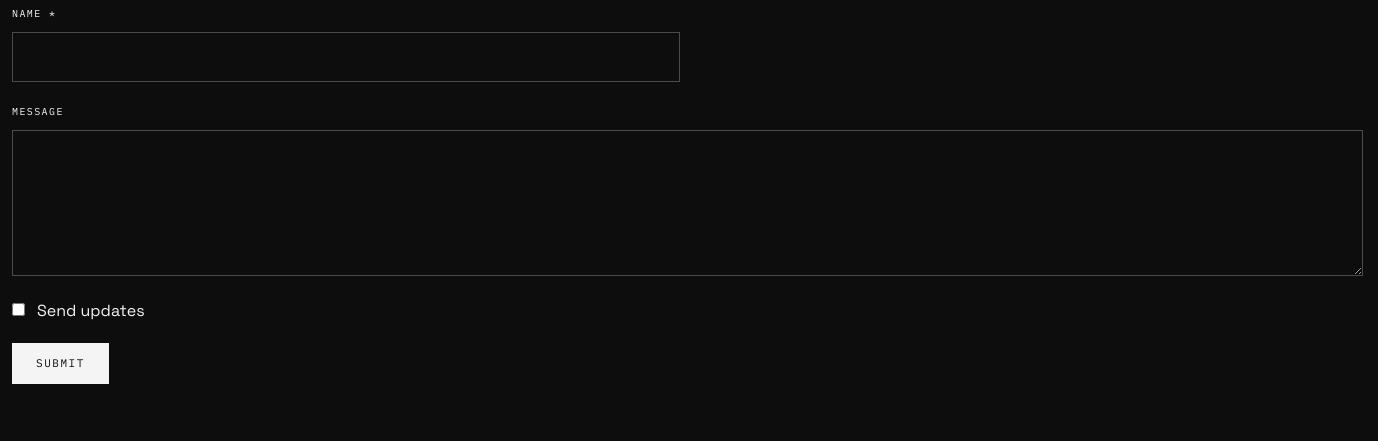
NativeForm › keeps the form available and exposes an alert when submission fails
Type "Ada" into the field labelled "Name *". click: (346, 57)
box: 12,32 -> 680,82
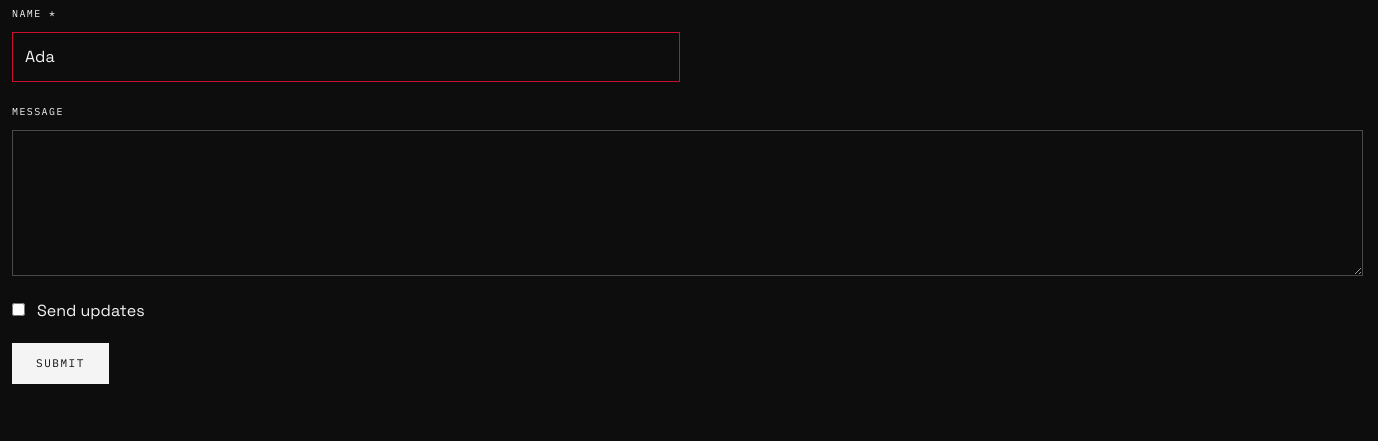
Click the button "Submit". click: (60, 363)
box: 12,343 -> 109,384
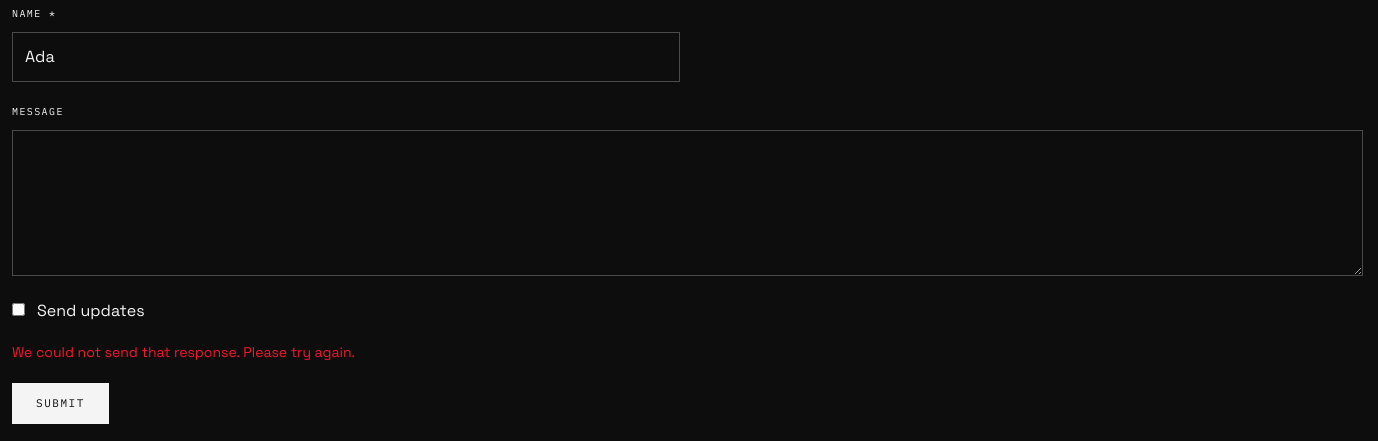
Expected: the button "Submit" is enabled, 12,383 -> 109,424
Result: the message shows "could not send" at 12,344 -> 355,362
